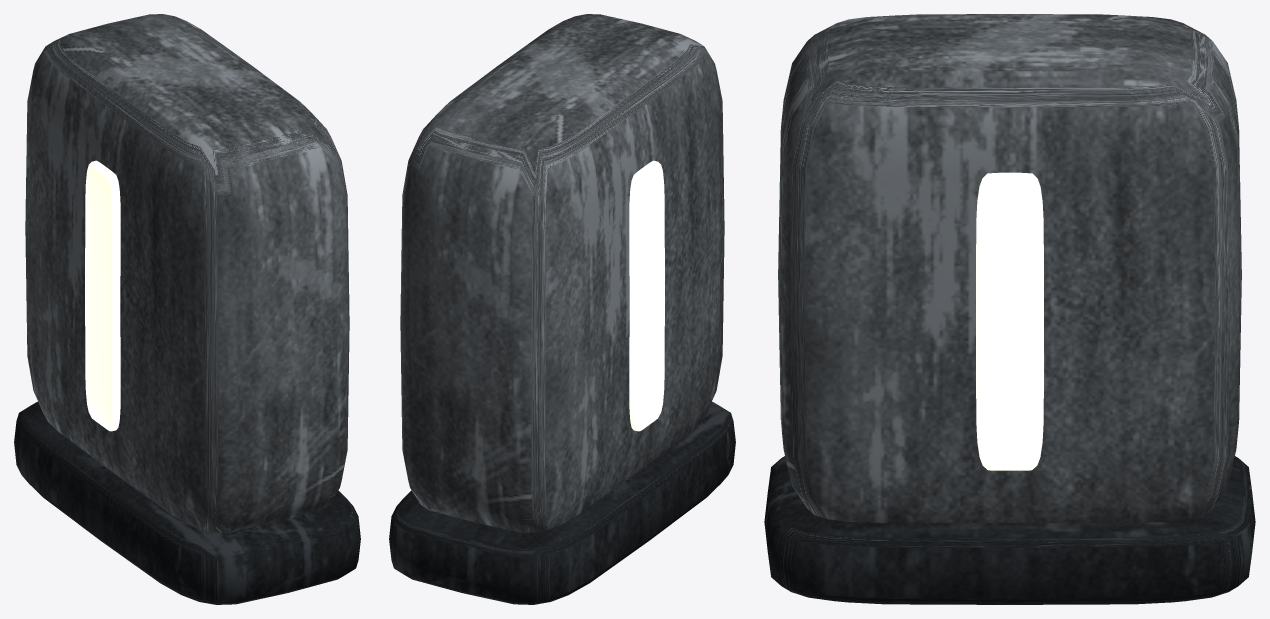
The model's file is lr4_cell.glb.
The picture shows the model from 3 angles, left to right: view 1: azimuth 30°, elevation 25°; view 2: azimuth 150°, elevation 25°; view 3: azimuth 270°, elevation 25°; orthographic projection. The views are drawn at different scales.
Visible parts, largest first — view 1: lr4_cell; view 2: lr4_cell; view 3: lr4_cell.
Part boxes in pixels (x1,y1,x2,y2): lr4_cell: [14, 14, 360, 604]; lr4_cell: [389, 14, 735, 604]; lr4_cell: [764, 14, 1255, 604].
Size of the model in its own units: 0.036 by 0.085 by 0.072.
Materials: 2 (1 with a texture image).
